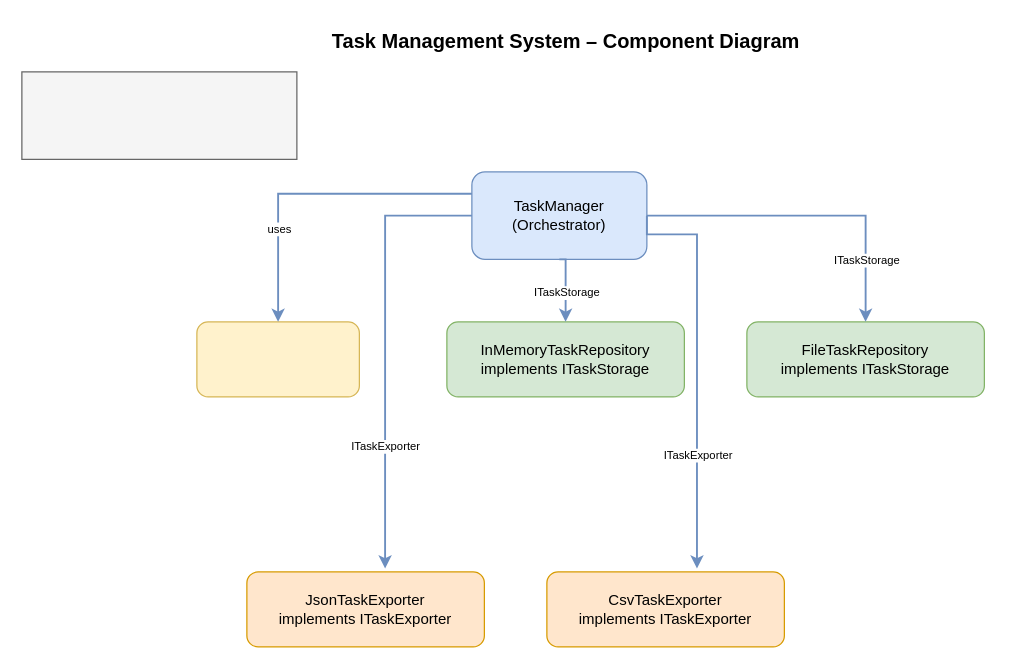
Some shapes in this 1025 by 669 pixel diagram are drawn without their labels. The shapes that lost their labels are listed below. From the top down, each one's centre as x and y in pixels, then its label:
At point (159, 115): "Legend: Component (box) Interface (labeled edge) Dependency (arrow)".
At point (277, 359): "TaskValidator".
